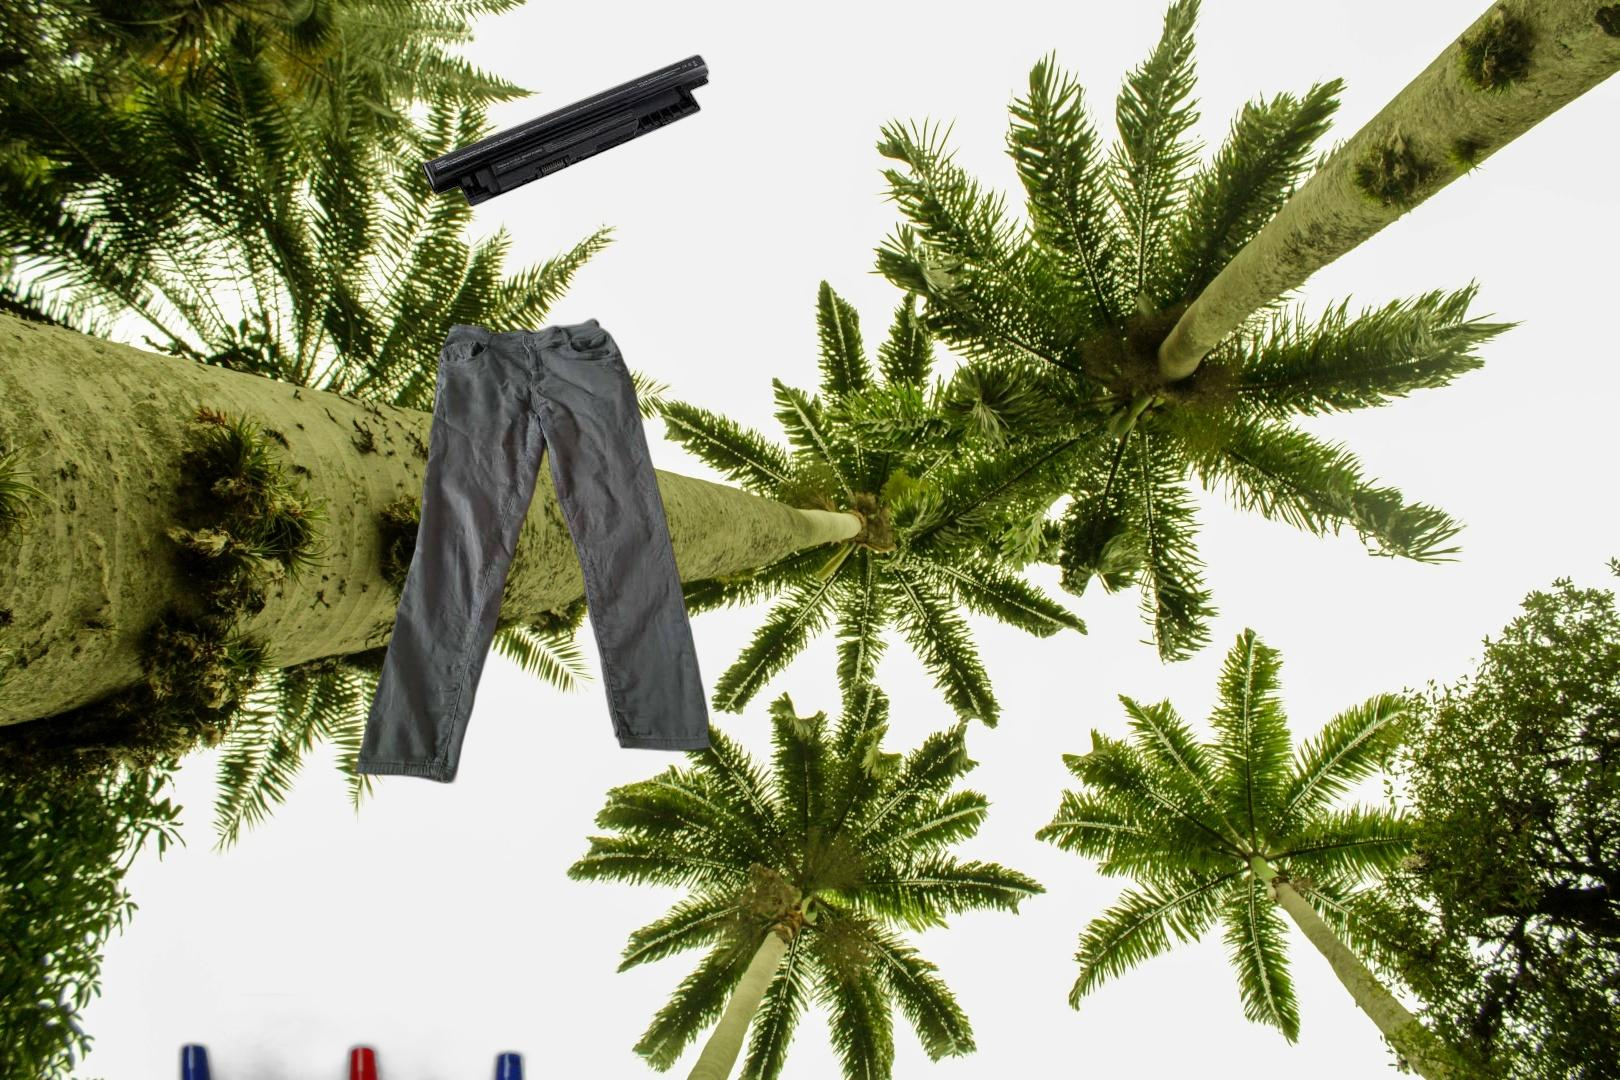battery: (418, 52, 712, 209)
clothes: (353, 315, 714, 787)
penholder: (137, 993, 937, 1080)
